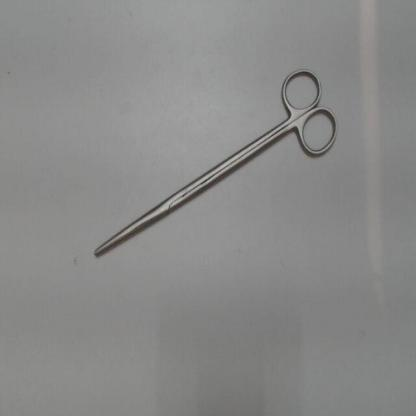9 Metzenbaum Scissors: (89, 60, 343, 262)
